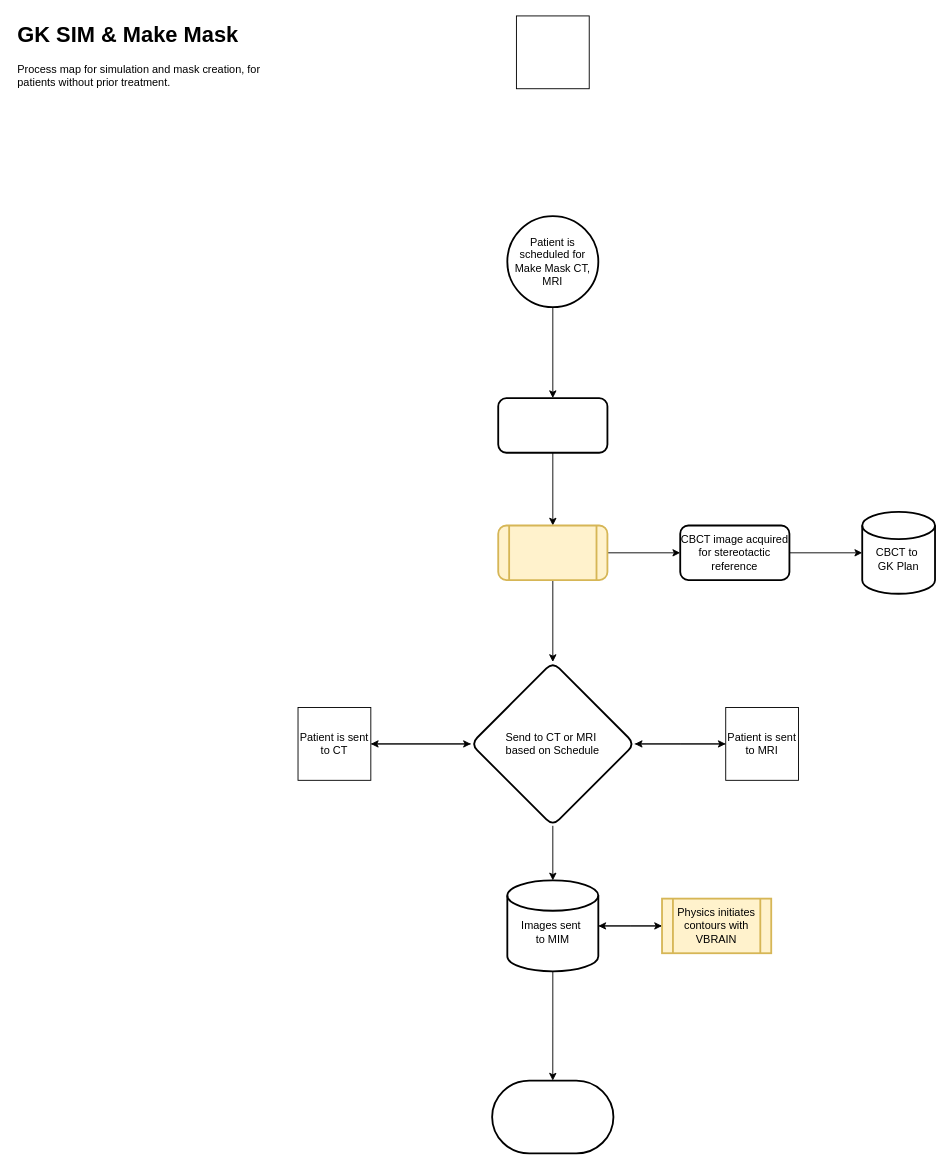
This 951x1170 diagram has some shape labels left out. Here are the shapes that lost their labels. From the top down, the centre of each, then its label:
At pixel 552 52: "Patient is referred/consulted/and recommended for GK treatment".
At pixel 552 425: "Patient is checked in (Q in mosaiq)".
At pixel 552 552: "Make Mask Procedure at GK Vault.".
At pixel 552 1116: "Physics creates MIM session and QCL for contour re".
